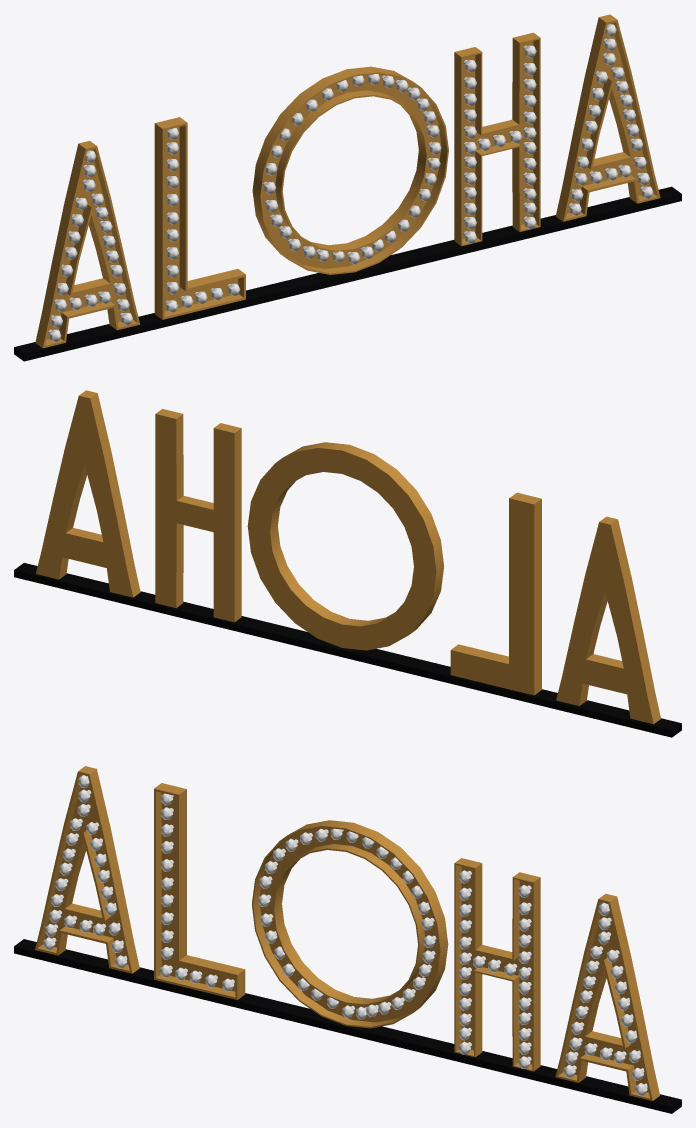
The model's file is AlohaSign.fbx.
3 renders of one model, top to bottom at view 1: azimuth 30°, elevation 25°; view 2: azimuth 150°, elevation 25°; view 3: azimuth 330°, elevation 25°, orthographic.
Parts seen in each view (by area): view 1: pCylinder418; view 2: pCylinder418; view 3: pCylinder418.
Part boxes in pixels (left/top/right/bottom): pCylinder418: left=14, top=14, right=681, bottom=361; pCylinder418: left=14, top=390, right=681, bottom=737; pCylinder418: left=14, top=766, right=681, bottom=1113.
Size of the model in its own units: 97.27 by 29 by 2.83.
